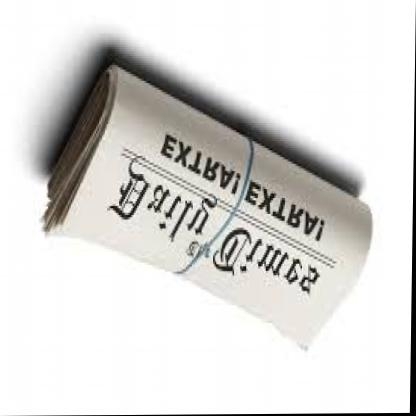Paper: (24, 39, 398, 359)
